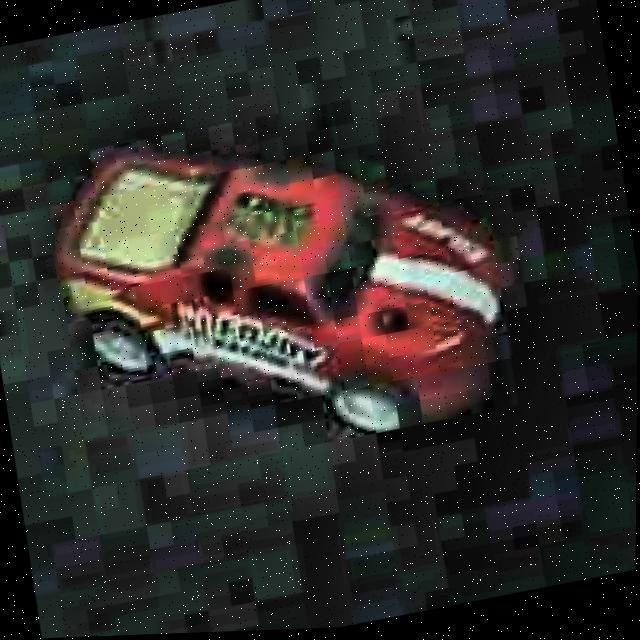car: (36, 77, 531, 501)
